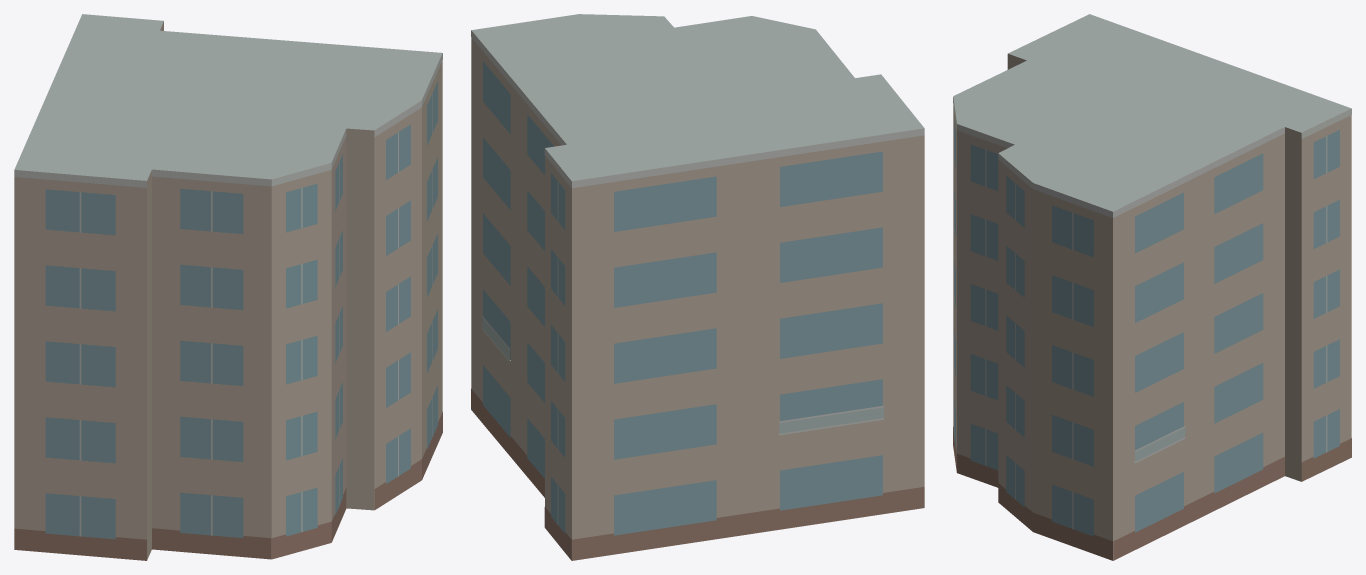
The model's file is survey-upis-32670909.glb.
The picture shows the model from 3 angles, left to right: view 1: azimuth 30°, elevation 25°; view 2: azimuth 150°, elevation 25°; view 3: azimuth 270°, elevation 25°; orthographic projection. The views are drawn at different scales.
Parts seen in each view (by area): view 1: survey-upis-32670909.tmp; view 2: survey-upis-32670909.tmp; view 3: survey-upis-32670909.tmp.
Part boxes in pixels (x1=…): survey-upis-32670909.tmp: x1=14, y1=14, x2=442, y2=560; survey-upis-32670909.tmp: x1=471, y1=14, x2=924, y2=560; survey-upis-32670909.tmp: x1=953, y1=14, x2=1351, y2=560.
Size of the model in its own units: 16.22 by 13.34 by 13.82.
